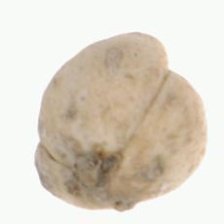L1: (67, 152, 131, 211)
L2: (33, 32, 207, 211)
